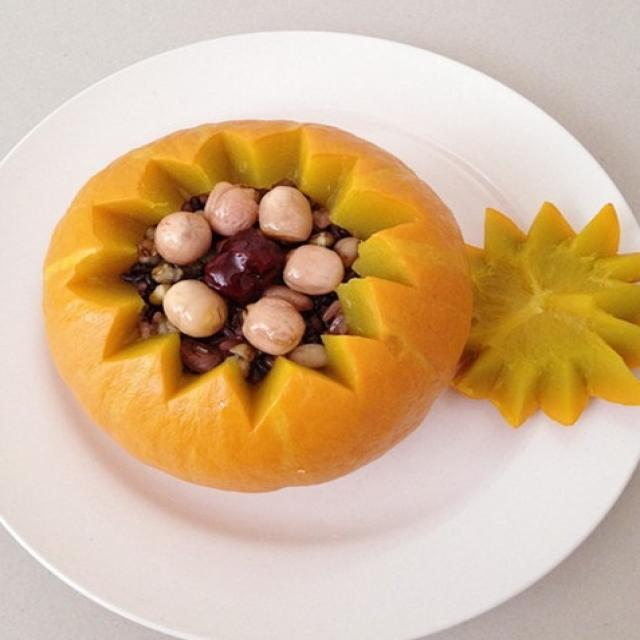米饭主食: (13, 42, 636, 613)
